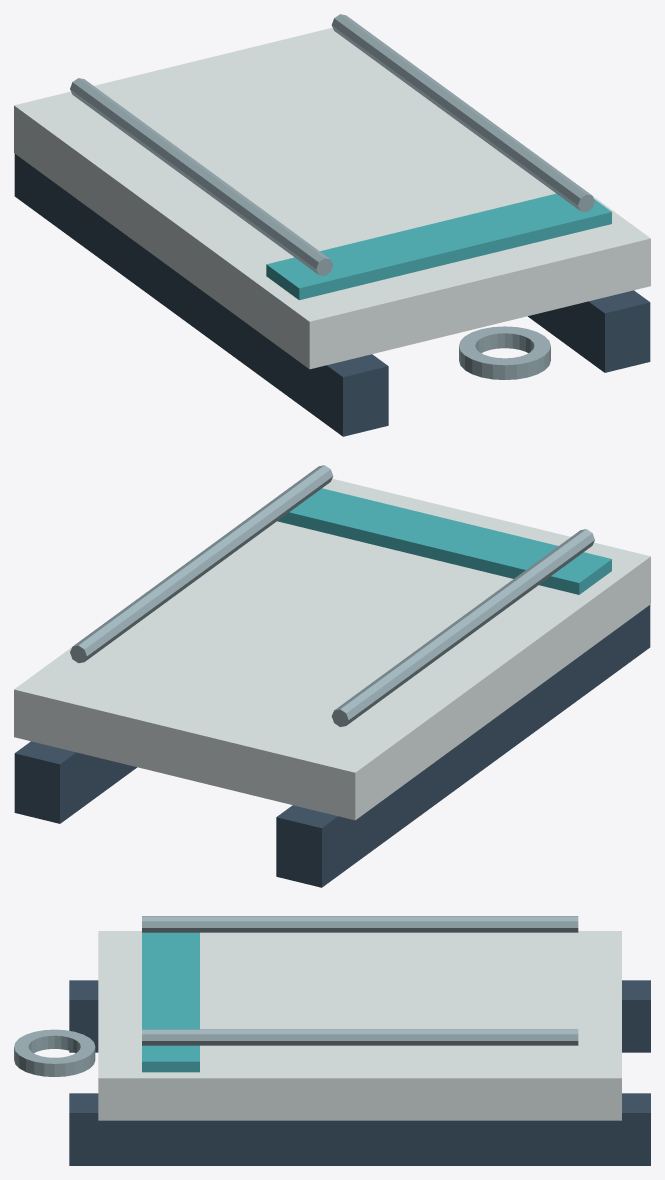
File: orbital-field-station-magnetic-cargo-sled__148.glb
The picture shows the model from 3 angles, top to bottom: view 1: azimuth 30°, elevation 25°; view 2: azimuth 150°, elevation 25°; view 3: azimuth 270°, elevation 25°; orthographic projection. The views are drawn at different scales.
Visible parts, largest first — view 1: shell, dark, metal, accent; view 2: shell, dark, metal, accent; view 3: shell, dark, metal, accent.
Boxes of the visible parts, x1=… form: shell: x1=14, y1=27, x2=650, y2=369; dark: x1=14, y1=154, x2=650, y2=436; metal: x1=70, y1=14, x2=594, y2=379; accent: x1=266, y1=193, x2=611, y2=300; shell: x1=14, y1=478, x2=650, y2=820; dark: x1=14, y1=605, x2=650, y2=887; metal: x1=70, y1=465, x2=594, y2=726; accent: x1=277, y1=488, x2=611, y2=594; shell: x1=98, y1=931, x2=621, y2=1120; dark: x1=69, y1=980, x2=650, y2=1165; metal: x1=14, y1=916, x2=578, y2=1076; accent: x1=142, y1=932, x2=199, y2=1072.
Size of the model in its own units: 1.2 by 0.48 by 2.19.
